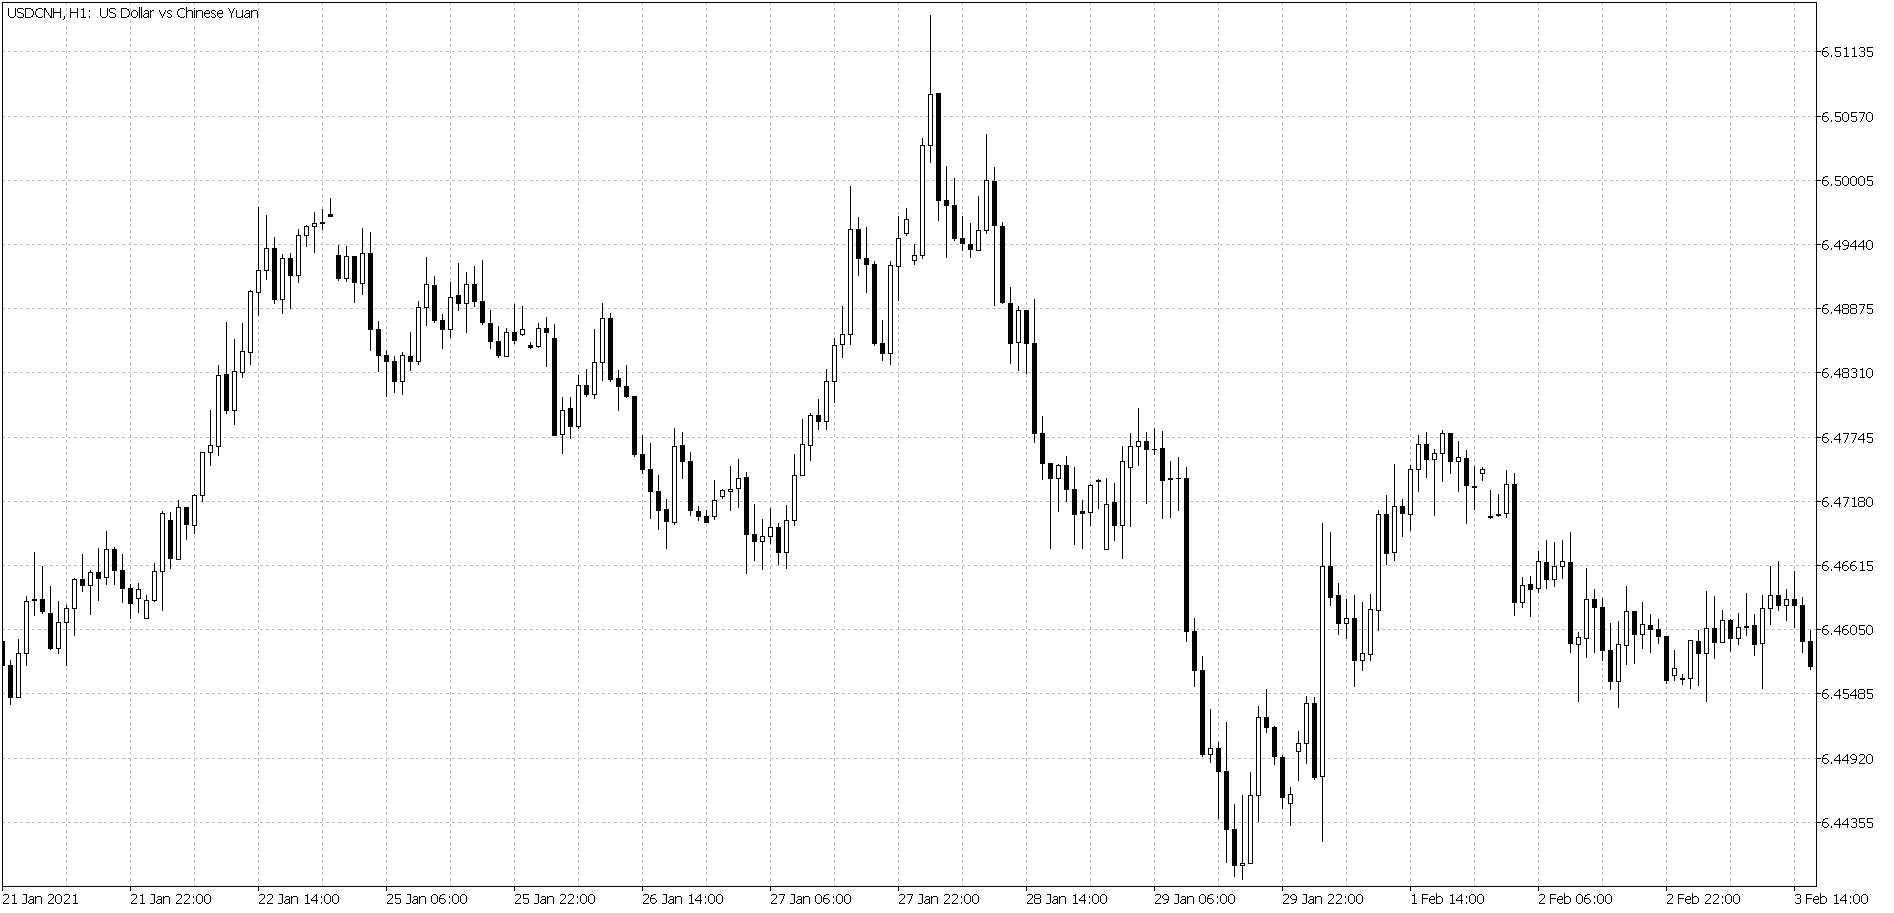headAndShoulders: (817, 43, 1059, 382)
morningStar: (1231, 773, 1254, 883)
